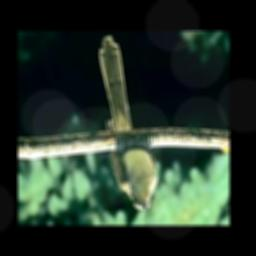Cuckoo: (99, 36, 159, 210)
